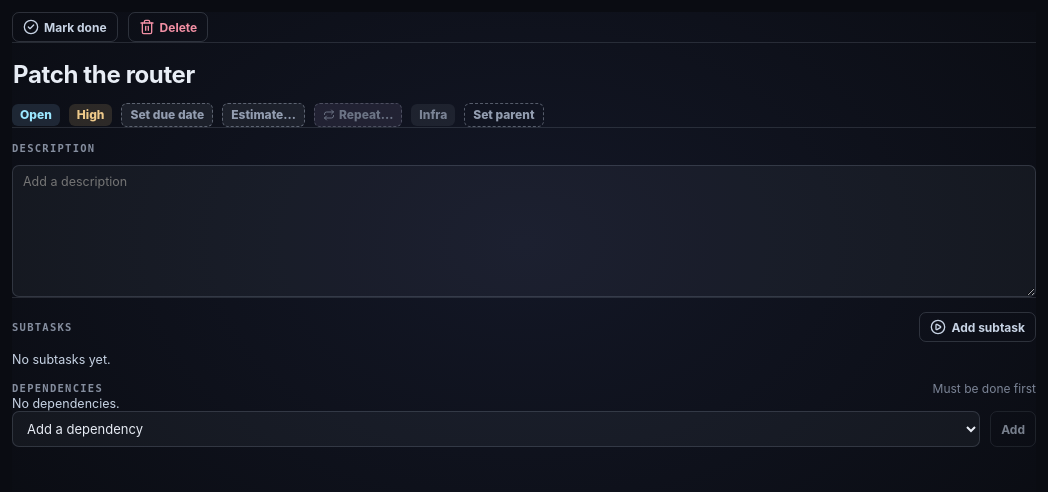
Test case: TaskDetailView › keeps a title edit typed while the description save is in flight
The width and height of the screenshot is (1048, 492).
Check: the field named "Task title" holds "Patch the router", box [12,57,1036,93]
Type "Roll out behind a flag" into the text box named "Task description" at (524, 231), box [12,165,1036,297]
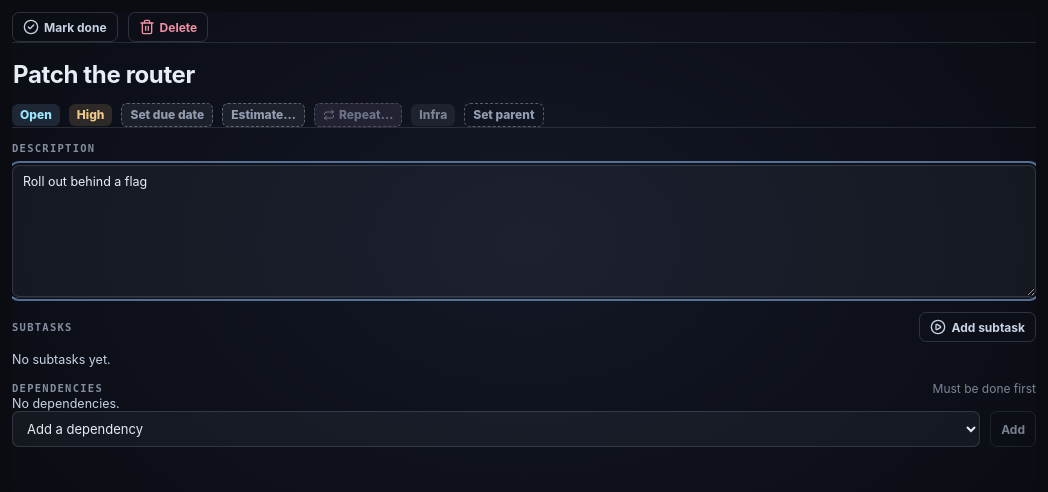
Click the field named "Task title" at (524, 75), box [12,57,1036,93]
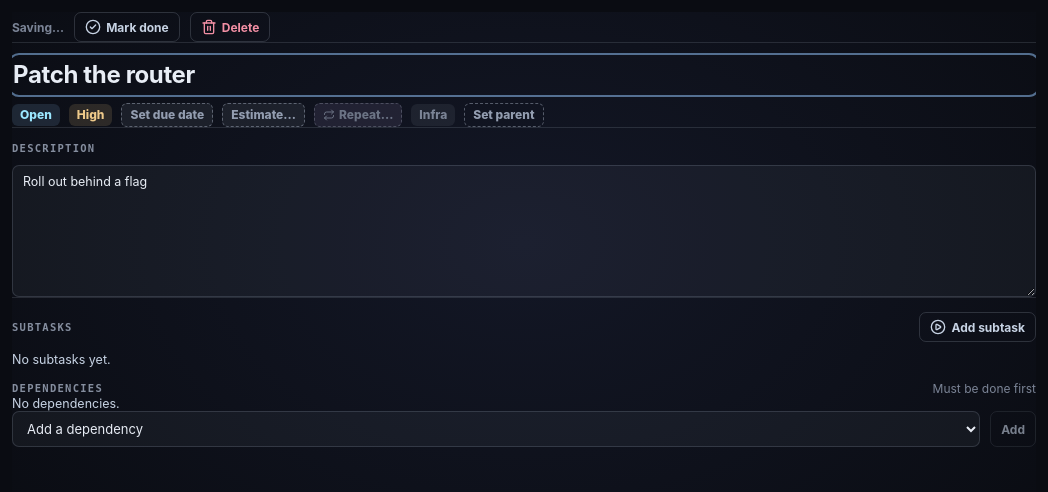
Type " today" into the field named "Task title" at (524, 75), box [12,57,1036,93]
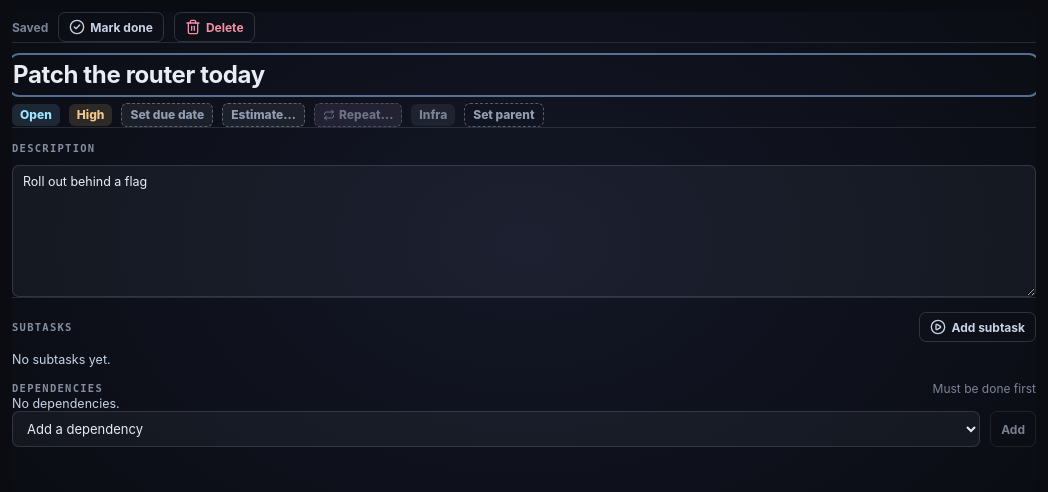
Check: the field named "Task title" holds "Patch the router today", box [12,57,1036,93]
